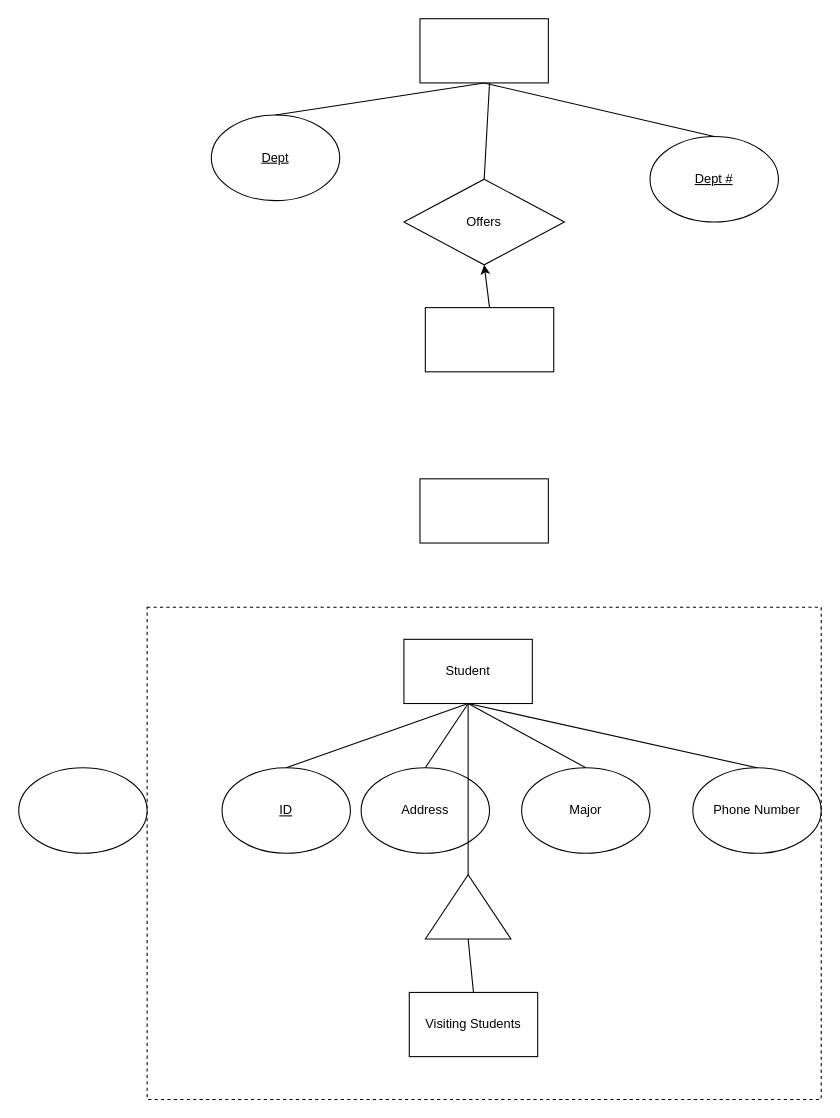
This 840x1118 diagram has some shape labels left out. The centre of each missing label's shape, as x and y in pixels:
Course: the point at 483,50
Instructor: the point at 483,510
ISa: the point at 467,906
Name: the point at 82,810
Section: the point at 489,339
